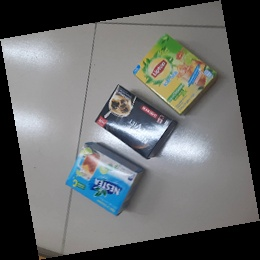CF Viet: (95, 85, 177, 158)
LipTon: (133, 31, 220, 116)
Nestea: (63, 143, 144, 219)
